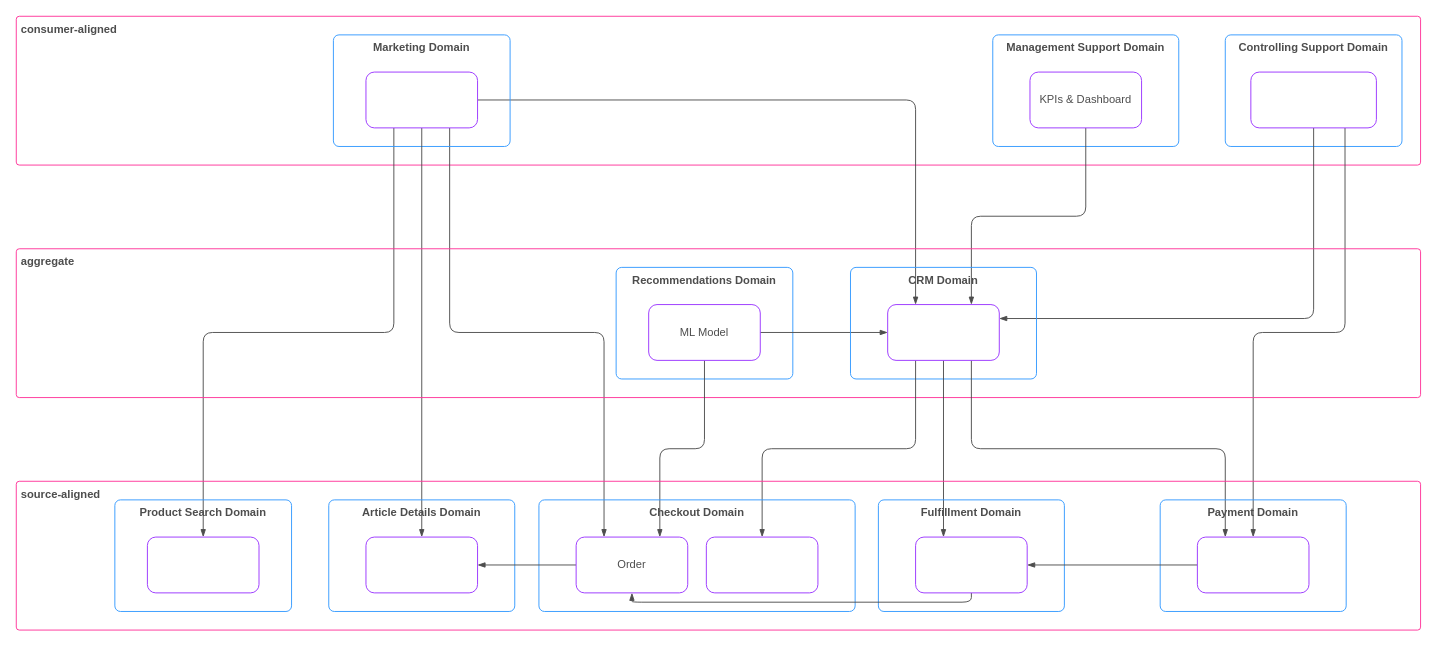
The diagram is 1437 pixels wide and 646 high, and some of its shapes have lost their labels. Here are the shapes that lost their labels. From the top down, the centre of each, then its label:
the point at 421,99: Funnel Analytics
the point at 1313,99: Profitability Reporting
the point at 943,332: 360 Customer
the point at 202,564: Search Queries
the point at 421,564: Article
the point at 761,564: Customer
the point at 971,564: Shipment
the point at 1252,564: Invoce
